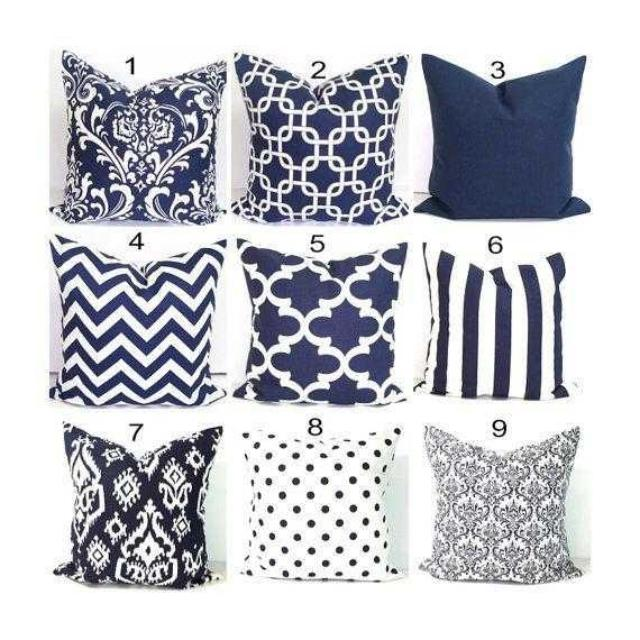pillow: (231, 49, 411, 224), (50, 48, 228, 224), (48, 234, 226, 408), (233, 238, 411, 406), (52, 422, 224, 588), (420, 52, 590, 218), (418, 422, 584, 584), (240, 422, 404, 582), (419, 242, 569, 400)
